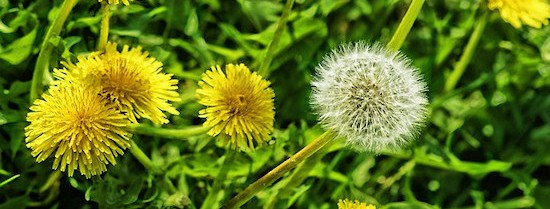dandelion: (22, 86, 131, 179), (58, 35, 179, 118), (194, 67, 282, 157)
